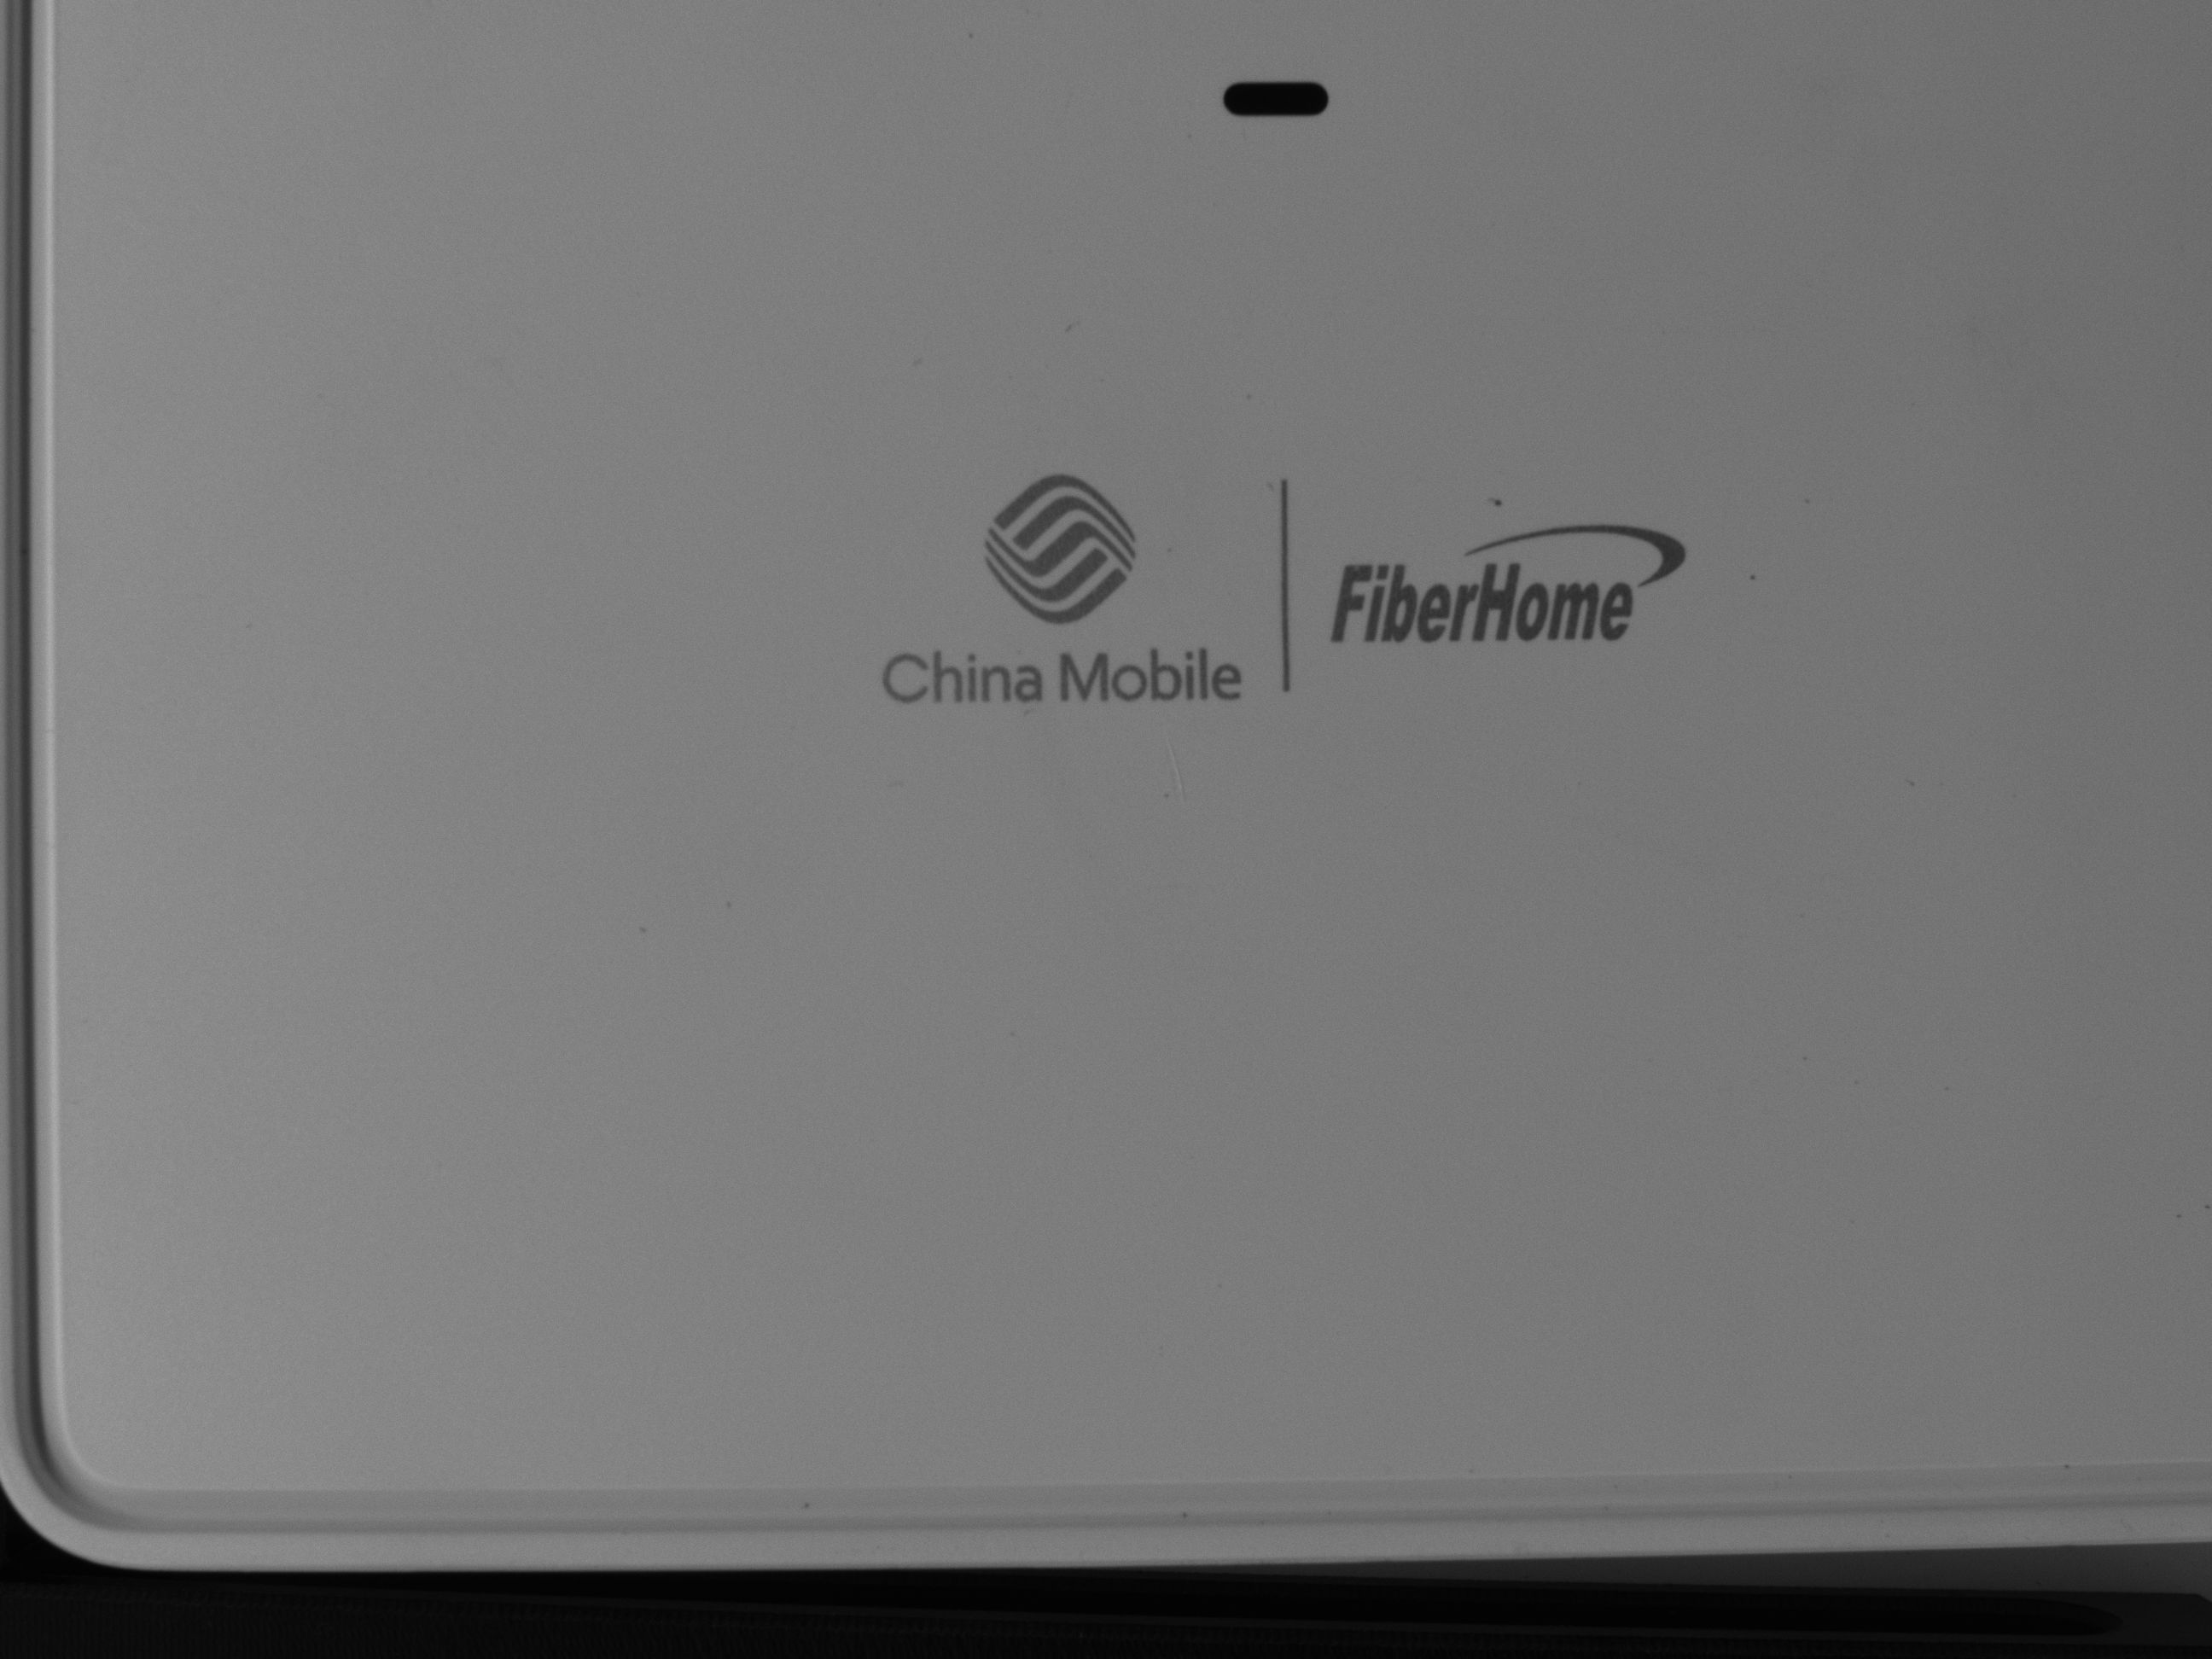BX_HG6371FMobileFiberhome: (860, 432, 1688, 732)
